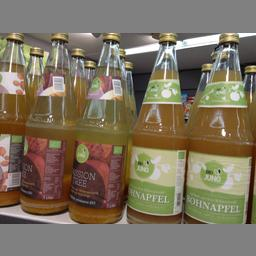juice: (184, 33, 254, 223), (126, 32, 188, 223), (69, 32, 128, 222), (18, 32, 70, 215)
